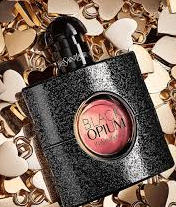ysl_black_opium: (23, 18, 175, 202)
